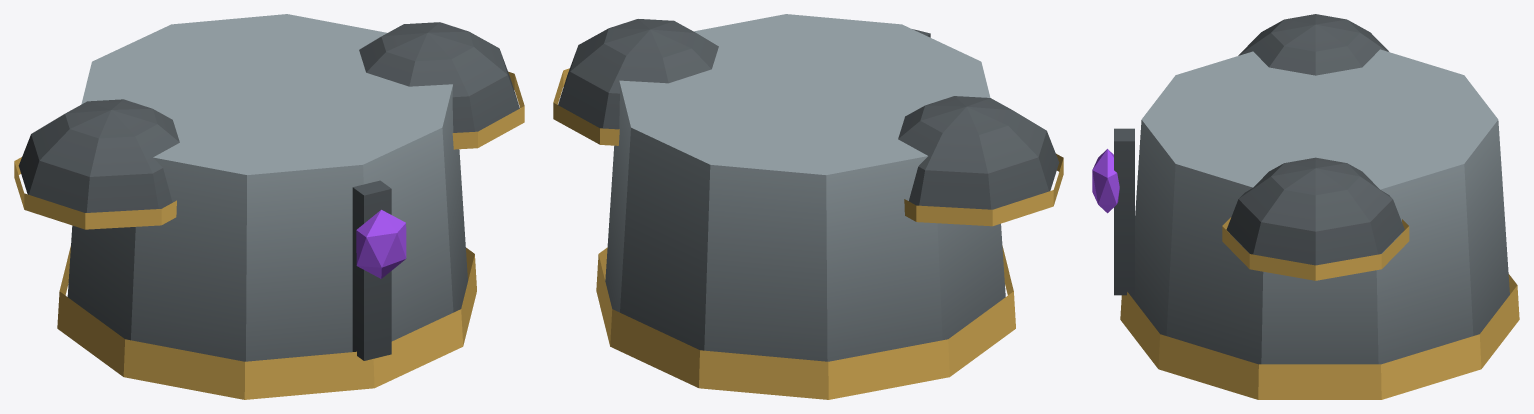
The model's file is guard_chest_t3.glb.
3 views of the same model, side by side, from view 1: azimuth 30°, elevation 25°; view 2: azimuth 150°, elevation 25°; view 3: azimuth 270°, elevation 25° (orthographic). The views are drawn at different scales.
Parts seen in each view (by area): view 1: guard_chest_t3__chest; view 2: guard_chest_t3__chest; view 3: guard_chest_t3__chest.
Boxes of the visible parts, <box> form: guard_chest_t3__chest: <box>14,14,524,399</box>; guard_chest_t3__chest: <box>553,14,1063,399</box>; guard_chest_t3__chest: <box>1092,14,1519,399</box>.
Size of the model in its own units: 1.24 by 0.58 by 1.01.
2 materials, 1 textured.
